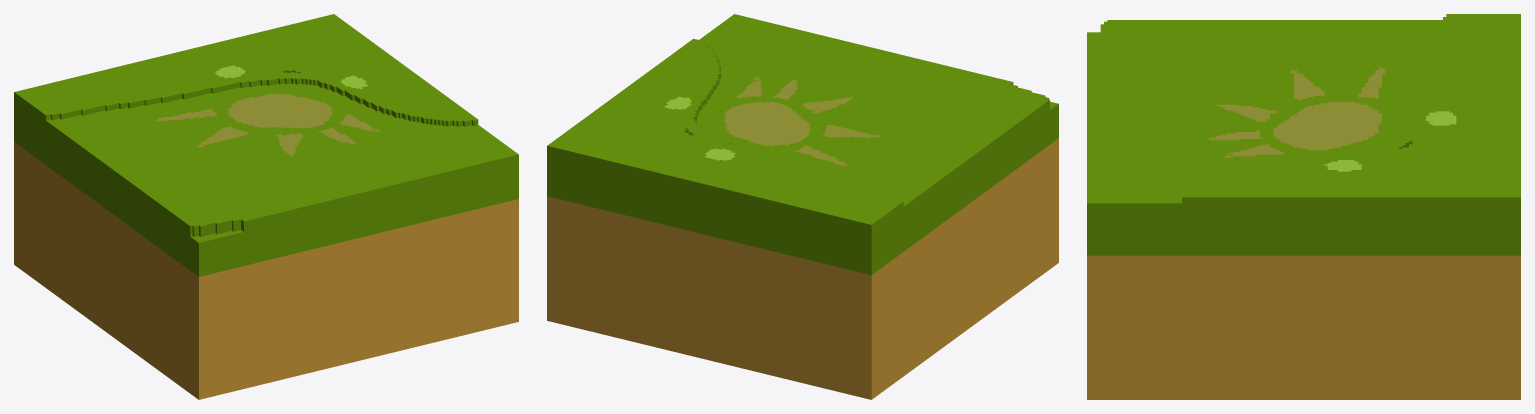
3 views of the same model, side by side, from view 1: azimuth 30°, elevation 25°; view 2: azimuth 150°, elevation 25°; view 3: azimuth 270°, elevation 25° (orthographic). The views are drawn at different scales.
Parts seen in each view (by area): view 1: 15B; view 2: 15B; view 3: 15B.
Part boxes in pixels (left/top/right/bottom): 15B: left=14, top=14, right=518, bottom=399; 15B: left=547, top=14, right=1058, bottom=399; 15B: left=1087, top=14, right=1520, bottom=399.
Bounding box in the file's own units: 12.8 × 6.6 × 12.8.
Materials: 1 (1 with a texture image).
